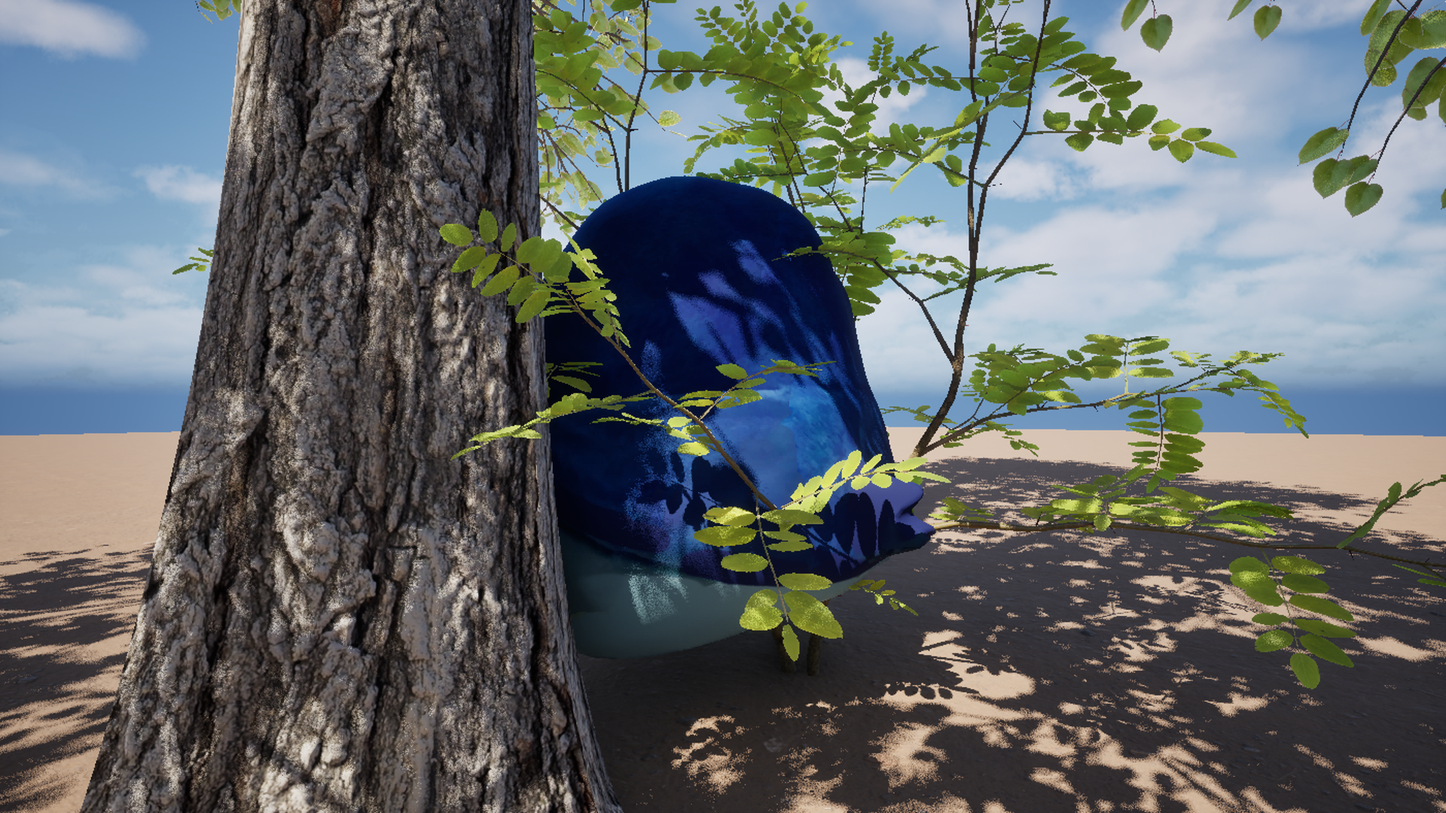Piplup: (314, 0, 1055, 813)
